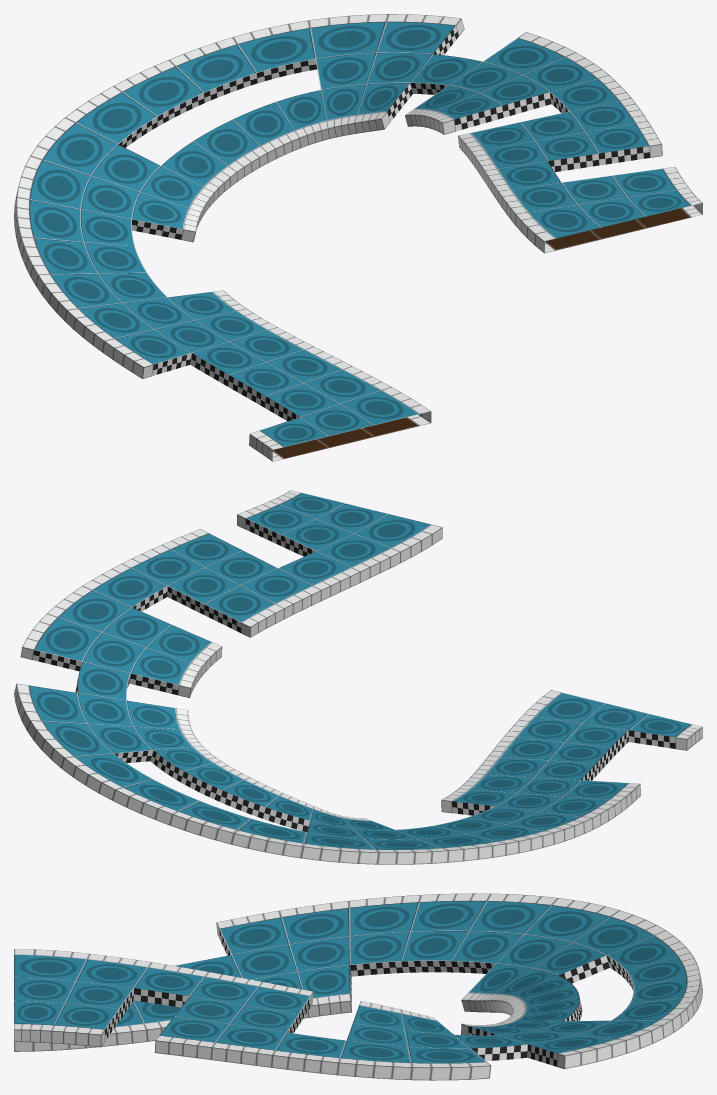
File: RageAgainstTimeCurve.obj
3 renders of one model, top to bottom at view 1: azimuth 30°, elevation 25°; view 2: azimuth 150°, elevation 25°; view 3: azimuth 270°, elevation 25°, orthographic. The views are drawn at different scales.
Visible parts, largest first — view 1: Cube_Cube.001, Cube.002_Cube.003, Cube.001_Cube.002; view 2: Cube_Cube.001, Cube.002_Cube.003, Cube.001_Cube.002; view 3: Cube_Cube.001, Cube.001_Cube.002, Cube.002_Cube.003.
Part boxes in pixels (x1,y1,x2,y2): Cube_Cube.001: (14, 14, 702, 461); Cube.002_Cube.003: (132, 83, 600, 436); Cube.001_Cube.002: (80, 52, 645, 447); Cube_Cube.001: (14, 490, 702, 864); Cube.002_Cube.003: (127, 514, 604, 831); Cube.001_Cube.002: (75, 503, 648, 839); Cube_Cube.001: (14, 893, 702, 1080); Cube.001_Cube.002: (14, 931, 610, 1060); Cube.002_Cube.003: (14, 949, 582, 1051).
Bounding box in the file's own units: 23.97 × 6.62 × 25.25.
